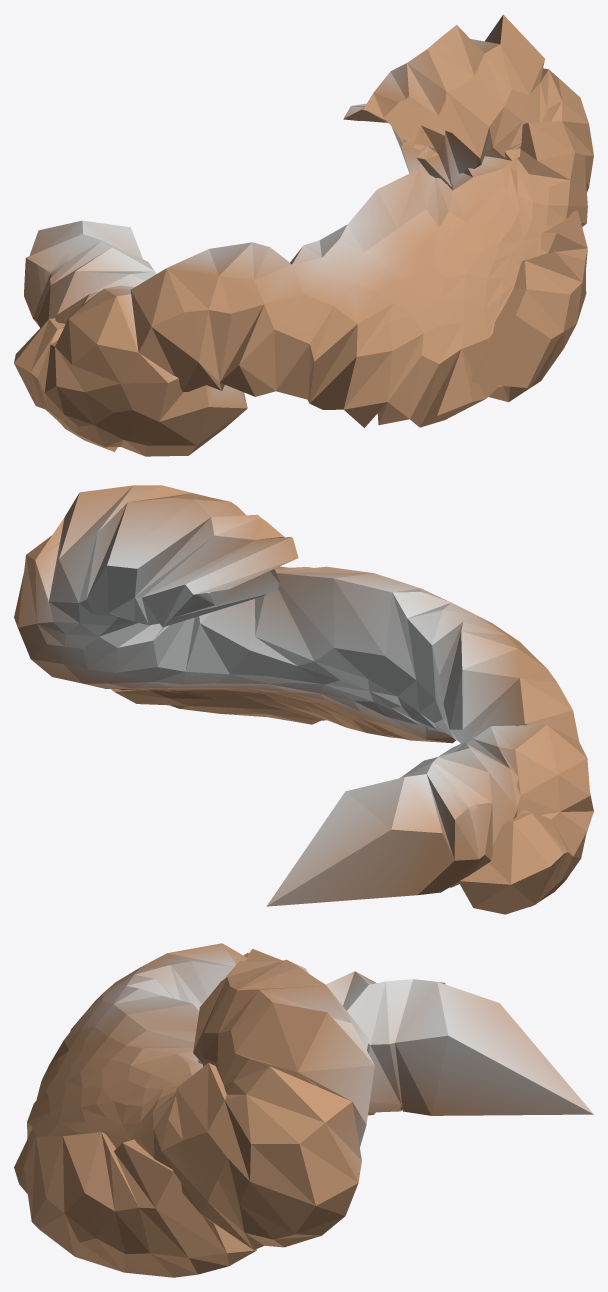
3 views of the same model, one above another, from view 1: azimuth 30°, elevation 25°; view 2: azimuth 150°, elevation 25°; view 3: azimuth 270°, elevation 25° (orthographic). The views are drawn at different scales.
Size of the model in its own units: 15.24 by 8.67 by 12.87.
